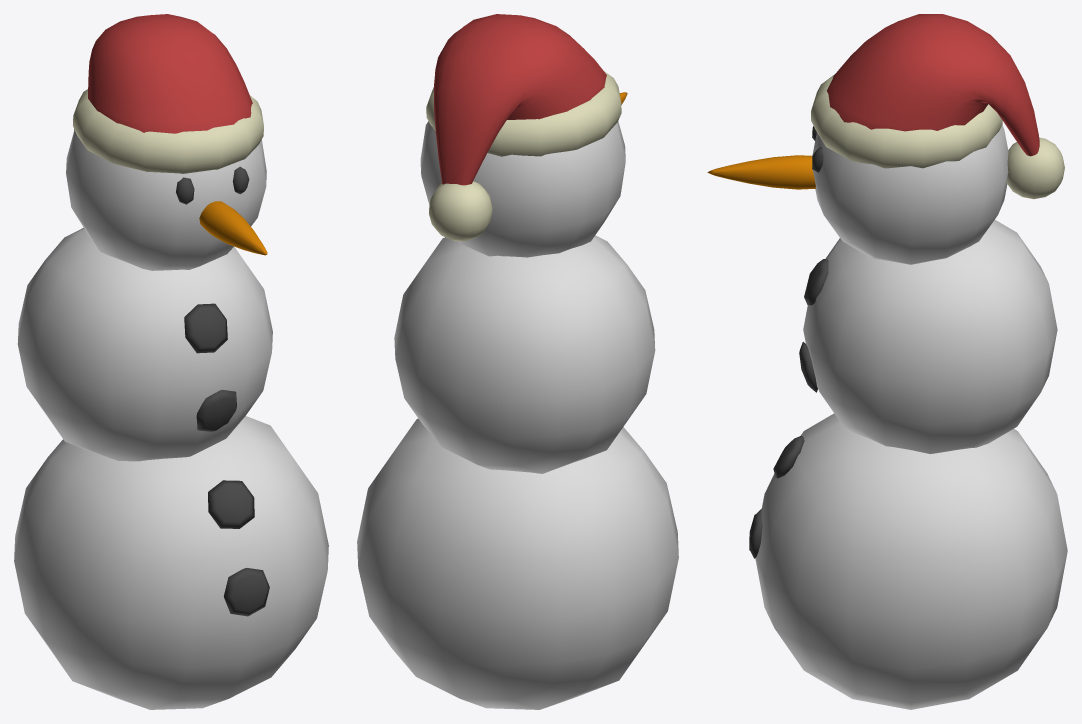
The model's file is SnowGubbe.fbx.
3 views of the same model, side by side, from view 1: azimuth 30°, elevation 25°; view 2: azimuth 150°, elevation 25°; view 3: azimuth 270°, elevation 25° (orthographic). The views are drawn at different scales.
Parts seen in each view (by area): view 1: Snowgubbe; view 2: Snowgubbe; view 3: Snowgubbe.
Boxes of the visible parts, x1,y1,x2,y2 form: Snowgubbe: (14, 14, 328, 709); Snowgubbe: (357, 14, 678, 709); Snowgubbe: (707, 14, 1067, 709).
Size of the model in its own units: 132 by 310 by 152.
